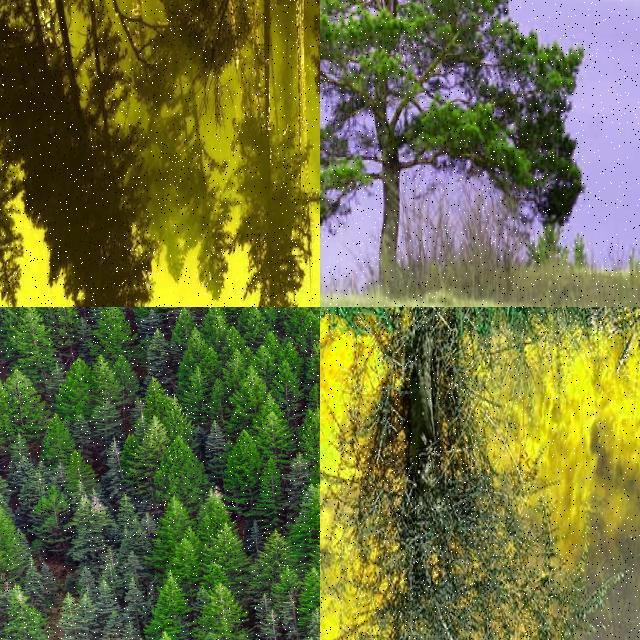tree: (320, 336, 640, 640), (320, 1, 592, 300), (36, 1, 144, 308), (242, 1, 314, 308), (162, 57, 214, 299), (0, 95, 24, 307), (6, 307, 58, 375), (86, 356, 126, 436), (0, 370, 44, 442), (222, 429, 262, 506), (71, 498, 113, 570), (198, 520, 246, 580), (196, 580, 244, 640), (158, 440, 206, 500), (148, 572, 190, 634), (34, 478, 72, 544), (2, 591, 52, 640), (56, 358, 94, 422), (157, 494, 195, 558), (42, 416, 82, 476), (254, 532, 298, 584), (276, 340, 304, 420), (255, 402, 292, 461), (253, 458, 285, 526), (232, 364, 266, 424), (0, 506, 28, 578), (117, 494, 147, 558), (9, 439, 37, 506), (61, 453, 99, 501), (288, 482, 320, 538), (96, 307, 132, 355), (58, 592, 94, 640), (6, 306, 50, 342), (102, 436, 130, 492), (182, 358, 210, 412), (139, 416, 169, 464), (296, 568, 320, 626), (143, 375, 173, 417), (127, 571, 149, 627), (206, 376, 227, 432), (146, 330, 170, 378), (256, 591, 279, 640), (300, 404, 320, 460), (229, 307, 267, 335), (50, 307, 78, 345), (205, 422, 227, 470), (172, 308, 196, 350), (184, 307, 220, 335), (202, 307, 225, 349), (23, 558, 44, 602), (183, 306, 215, 334), (306, 338, 320, 402), (92, 307, 114, 347), (124, 434, 144, 478), (239, 307, 263, 343), (284, 307, 320, 331), (118, 307, 146, 337), (266, 307, 302, 329), (158, 307, 186, 333), (102, 548, 122, 584), (292, 308, 321, 332), (136, 306, 160, 334), (190, 306, 218, 330), (266, 307, 294, 331), (3, 308, 31, 332), (97, 581, 119, 611), (104, 610, 125, 638), (264, 306, 288, 330), (40, 563, 60, 591), (162, 307, 185, 331), (263, 306, 289, 326), (77, 565, 95, 593), (238, 306, 258, 330), (56, 308, 76, 332), (119, 308, 143, 328), (110, 307, 134, 327), (257, 307, 283, 325), (220, 307, 243, 327), (217, 307, 240, 327), (219, 307, 247, 323), (0, 306, 12, 342), (207, 307, 227, 327), (284, 307, 304, 327), (302, 307, 320, 327), (14, 307, 34, 325), (150, 307, 168, 325), (66, 307, 84, 325), (244, 306, 264, 322), (235, 307, 257, 321), (231, 307, 253, 321), (186, 307, 207, 321), (123, 623, 140, 640), (0, 307, 16, 325), (74, 307, 94, 321), (187, 308, 210, 320), (245, 307, 268, 319), (152, 307, 178, 317), (254, 307, 270, 323), (140, 306, 156, 322), (94, 306, 115, 318), (295, 307, 313, 321), (148, 306, 168, 318), (80, 307, 100, 319), (160, 306, 180, 318), (133, 307, 149, 321), (200, 307, 216, 321), (53, 307, 75, 317), (259, 307, 281, 317), (37, 307, 54, 319), (218, 306, 235, 318), (116, 308, 132, 320), (28, 308, 44, 320), (266, 306, 282, 318), (92, 307, 111, 317), (162, 308, 185, 316), (183, 307, 201, 317), (199, 307, 217, 317), (0, 307, 10, 323), (14, 307, 30, 317), (18, 308, 38, 316), (43, 307, 57, 317), (215, 307, 229, 317), (151, 307, 165, 317), (83, 307, 99, 315), (164, 307, 180, 315), (38, 306, 54, 314), (41, 306, 57, 314), (48, 308, 64, 316), (92, 308, 108, 316), (174, 307, 190, 315), (128, 308, 144, 316), (119, 307, 135, 315), (104, 308, 120, 316), (146, 307, 158, 317), (178, 306, 192, 314), (125, 306, 138, 314), (118, 307, 130, 315), (66, 307, 82, 313), (70, 307, 86, 313), (30, 306, 42, 314), (254, 306, 266, 314), (44, 307, 58, 313), (68, 307, 80, 313), (80, 307, 92, 313), (116, 307, 124, 313), (136, 308, 148, 312)
